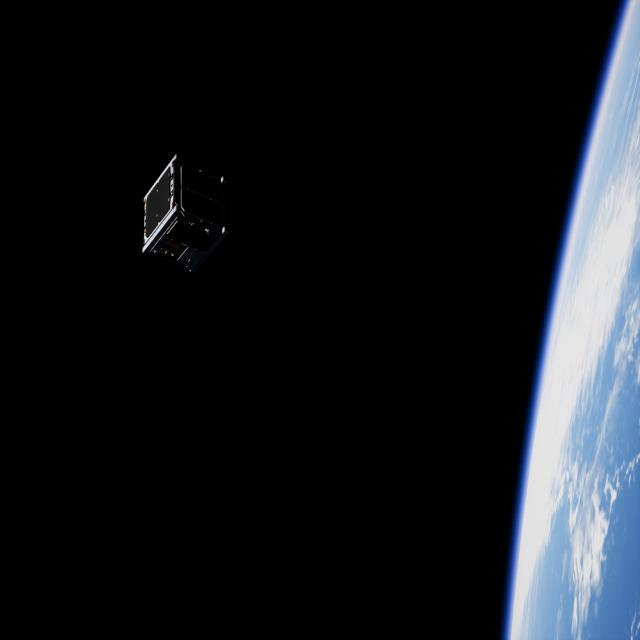satellite: (139, 147, 234, 283)
